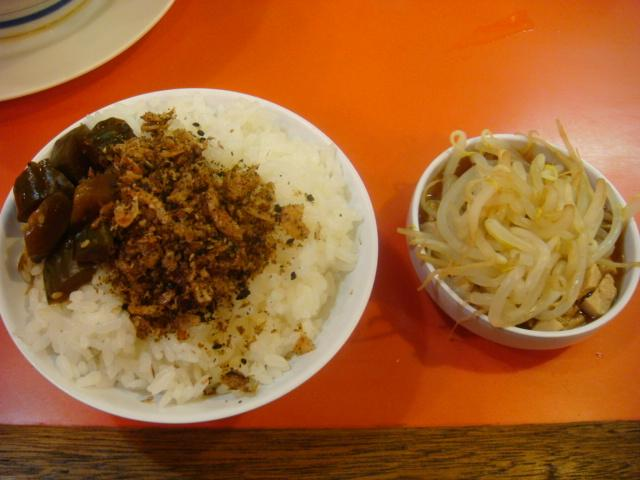plate: (0, 88, 377, 423)
rice: (9, 98, 361, 406)
